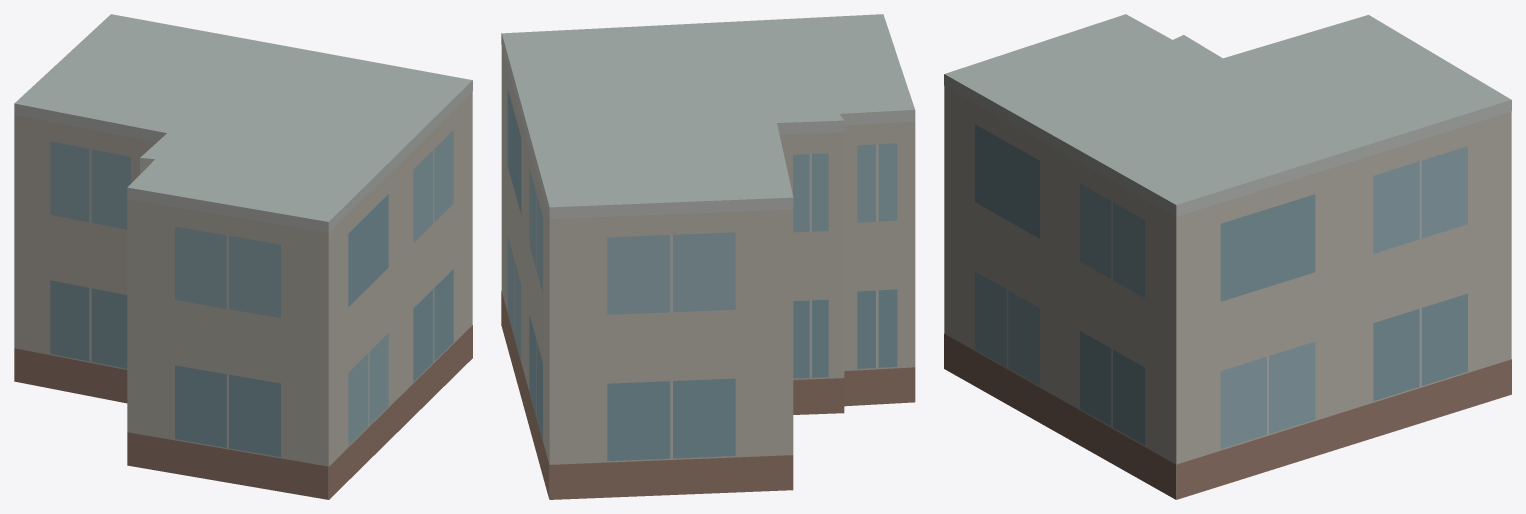
File: survey-upis-32937633.glb
The picture shows the model from 3 angles, left to right: view 1: azimuth 30°, elevation 25°; view 2: azimuth 150°, elevation 25°; view 3: azimuth 270°, elevation 25°; orthographic projection. The views are drawn at different scales.
Visible parts, largest first — view 1: survey-upis-32937633.tmp; view 2: survey-upis-32937633.tmp; view 3: survey-upis-32937633.tmp.
Boxes of the visible parts, x1,y1,x2,y2 form: survey-upis-32937633.tmp: (14, 14, 472, 499); survey-upis-32937633.tmp: (501, 14, 915, 499); survey-upis-32937633.tmp: (944, 14, 1511, 499).
Size of the model in its own units: 8.49 by 6.1 by 10.65.
